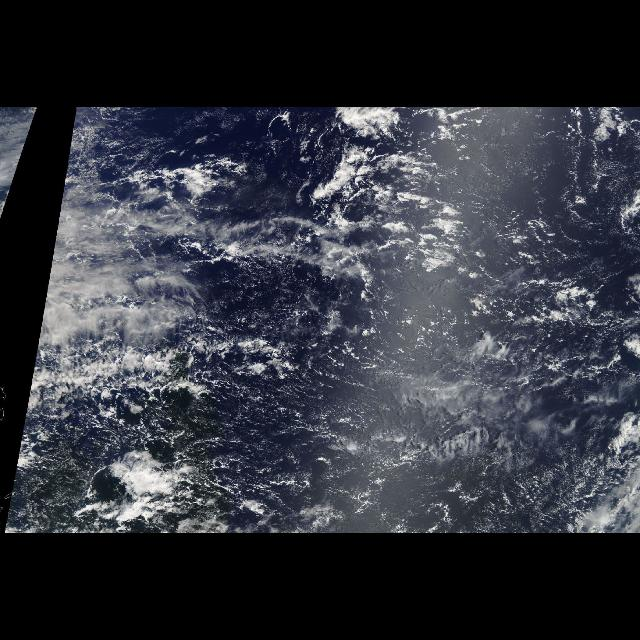Sugar: (203, 372, 433, 492)
